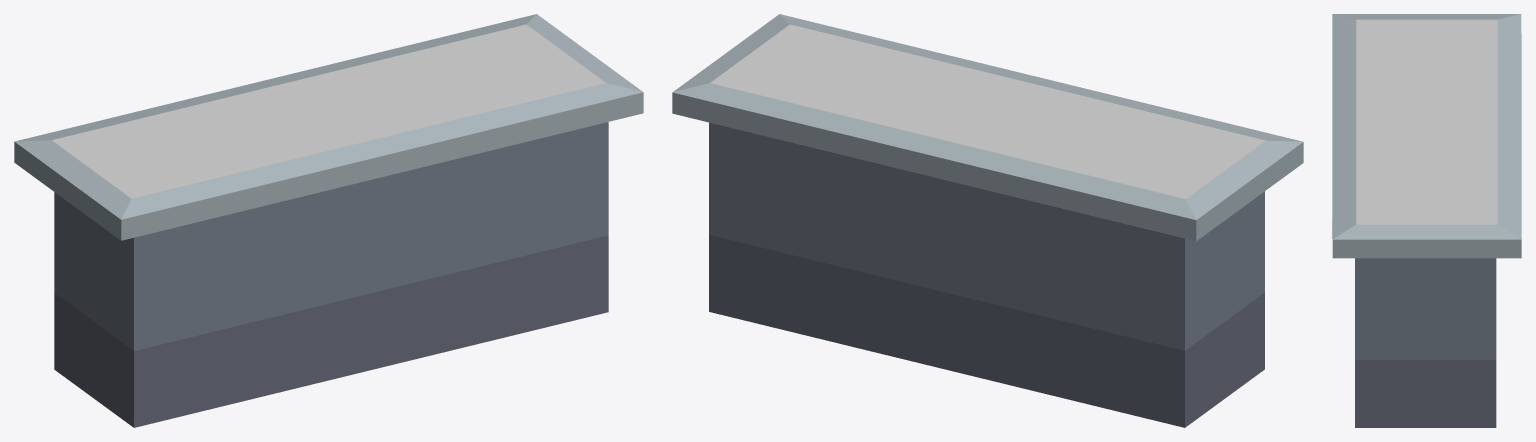
The model's file is counter.fbx.
3 renders of one model, left to right at view 1: azimuth 30°, elevation 25°; view 2: azimuth 150°, elevation 25°; view 3: azimuth 270°, elevation 25°, orthographic. The views are drawn at different scales.
Parts seen in each view (by area): view 1: counter3; view 2: counter3; view 3: counter3.
Part boxes in pixels (x1,y1,x2,y2): counter3: (14,14,643,427); counter3: (672,14,1303,427); counter3: (1332,14,1521,427).
Size of the model in its own units: 3.41 by 1.43 by 1.21.
